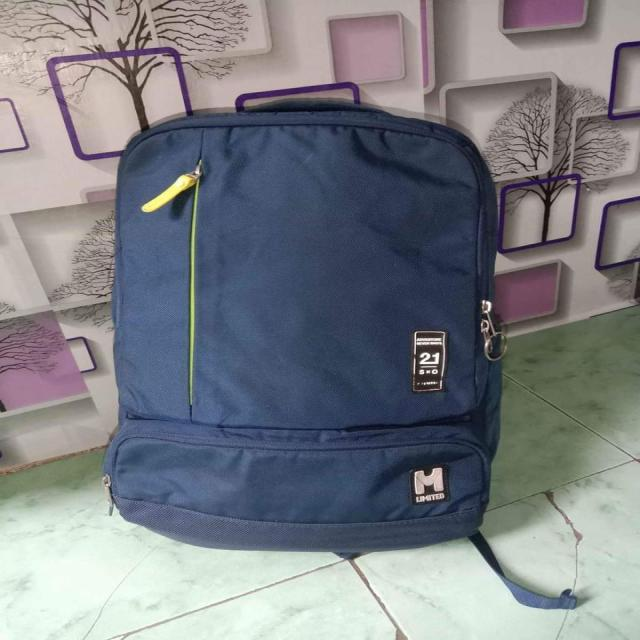bag: (110, 107, 495, 548)
